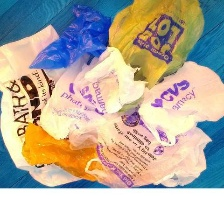plastic_bag: (0, 19, 85, 188), (88, 104, 214, 190), (103, 0, 211, 90), (135, 55, 224, 150), (26, 0, 125, 75), (12, 117, 116, 182), (39, 48, 101, 146), (69, 41, 149, 115)
